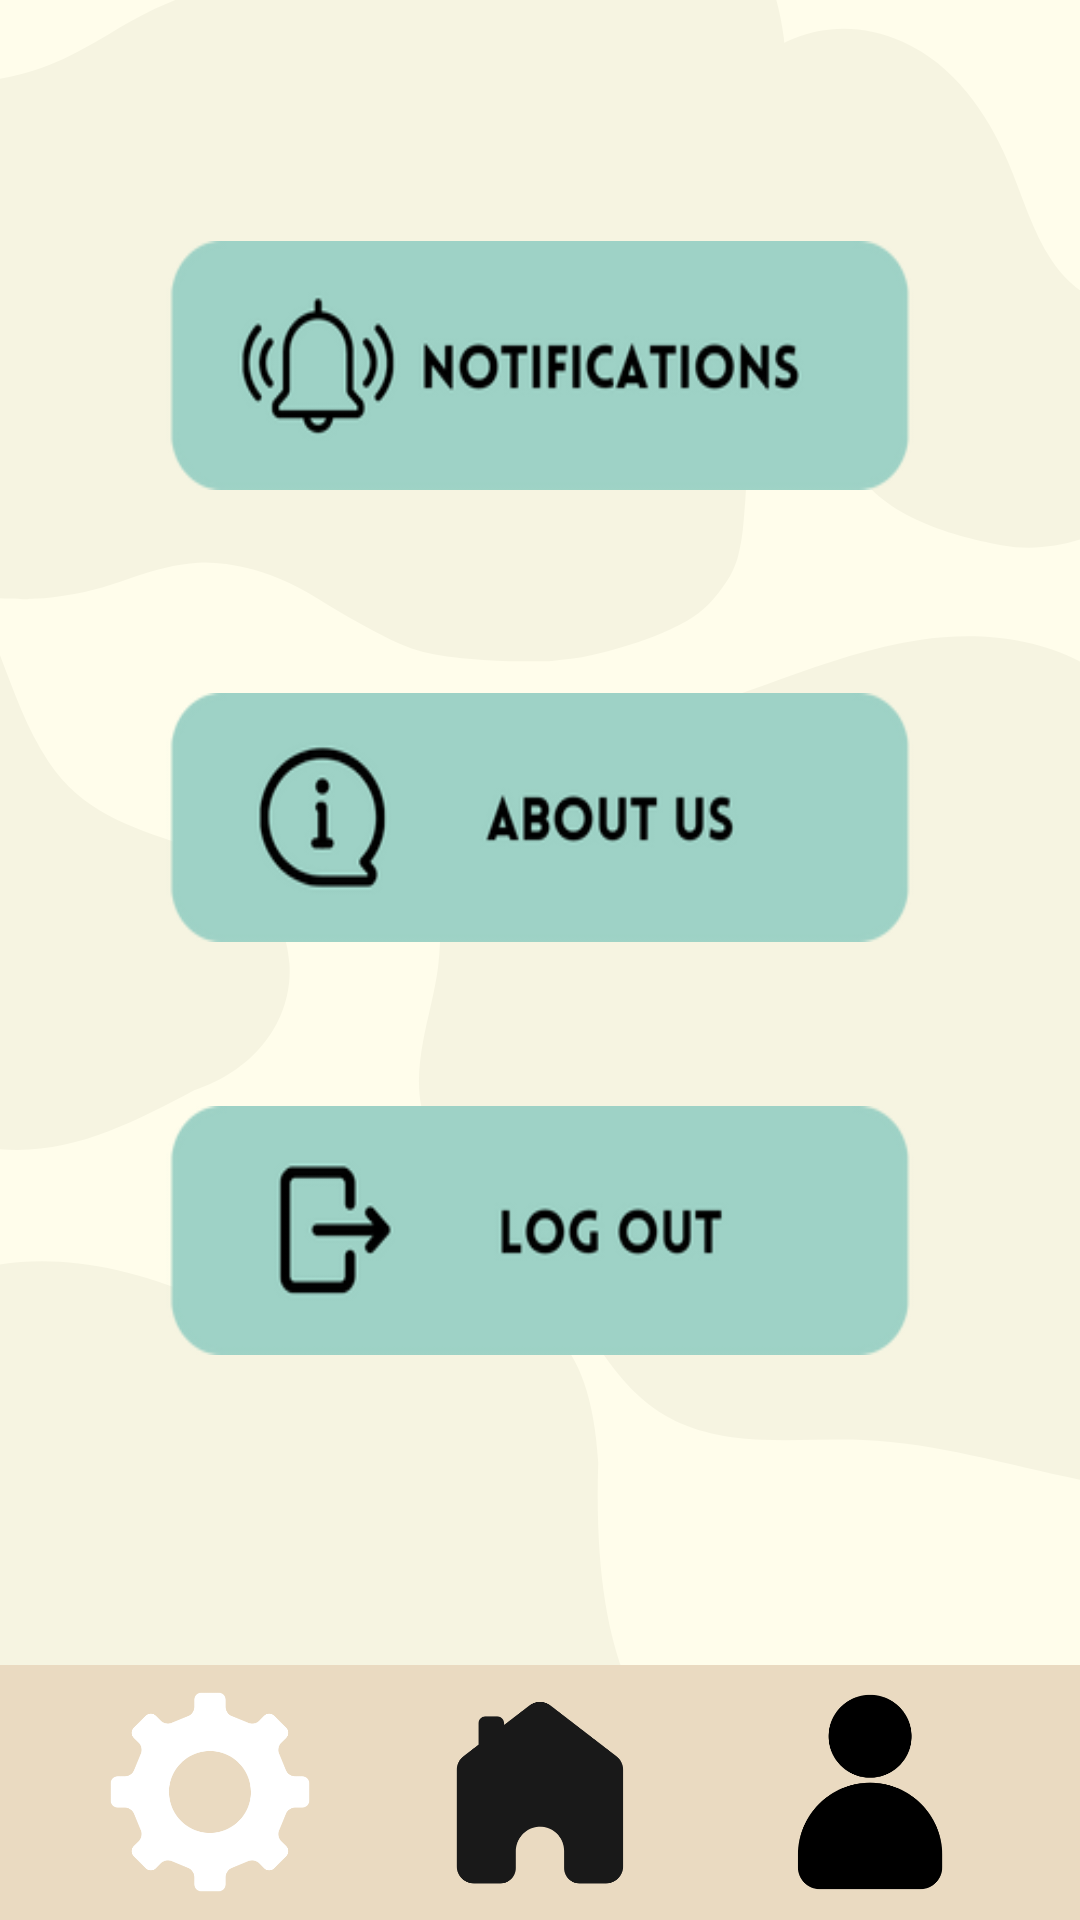

Icon click points for this 1080px x 1920px phone screenshot, format (x,y):
home: (539,1793)
profile: (870,1792)
settings: (210,1792)
